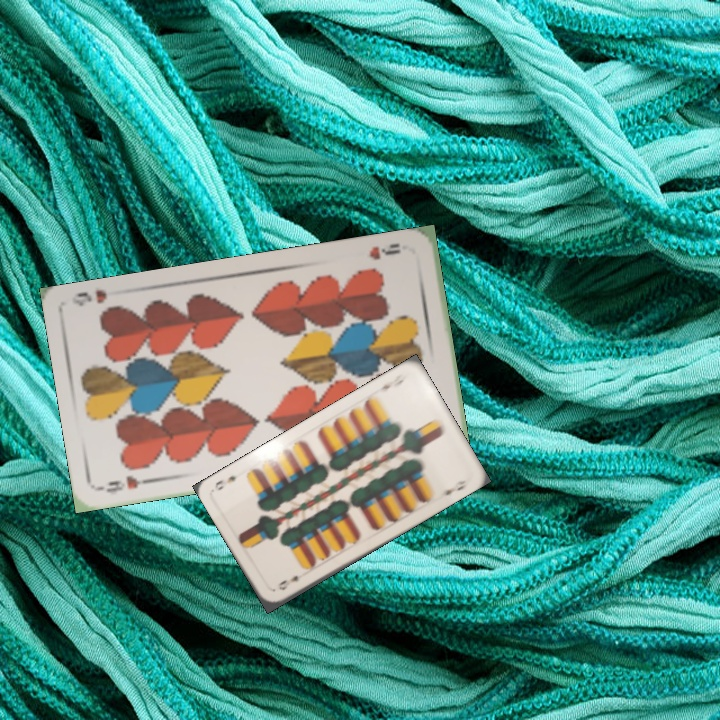E9: (372, 369, 409, 393), (273, 571, 301, 593)
H9: (96, 471, 155, 496), (365, 239, 403, 263)
